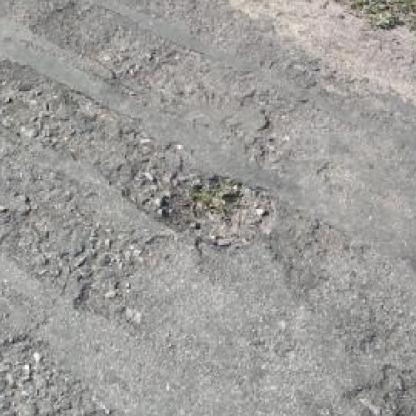pothole: (144, 171, 275, 252)
